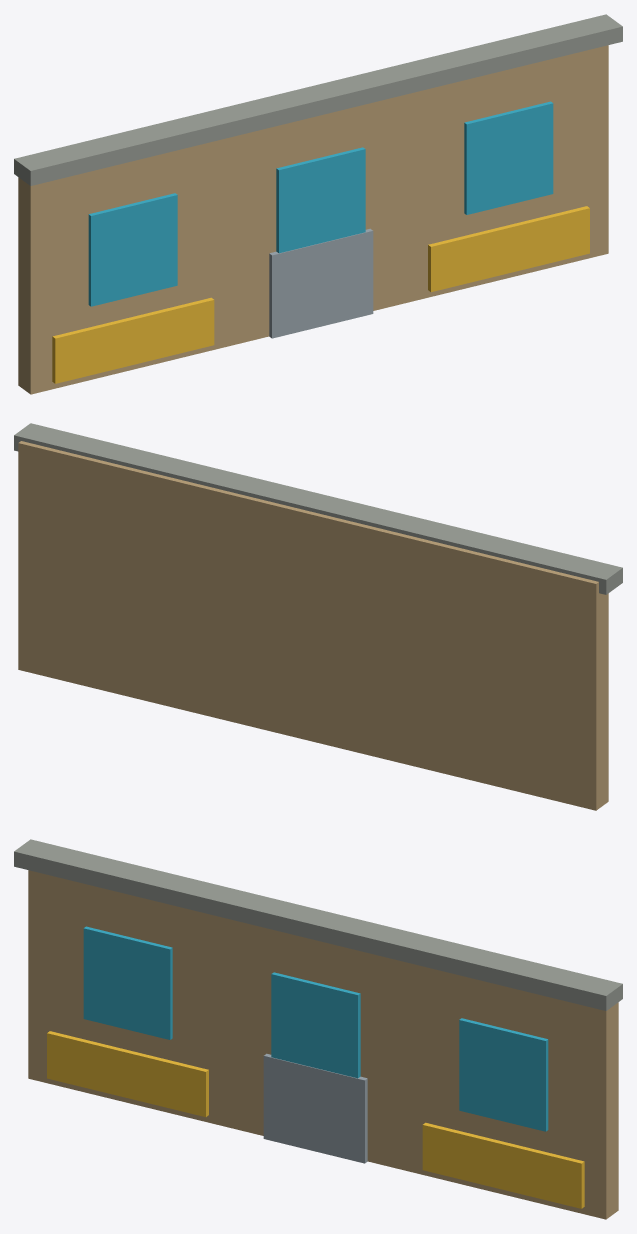
Rendered from facade.gltf.
3 renders of one model, top to bottom at view 1: azimuth 30°, elevation 25°; view 2: azimuth 150°, elevation 25°; view 3: azimuth 330°, elevation 25°, orthographic.
Visible parts, largest first — view 1: facade; view 2: facade; view 3: facade.
Part boxes in pixels (left/top/right/bottom): facade: left=14, top=14, right=622, bottom=394; facade: left=14, top=423, right=622, bottom=810; facade: left=14, top=839, right=622, bottom=1219.
Size of the model in its own units: 8.2 by 3.05 by 0.47.
1 material, 1 textured.
